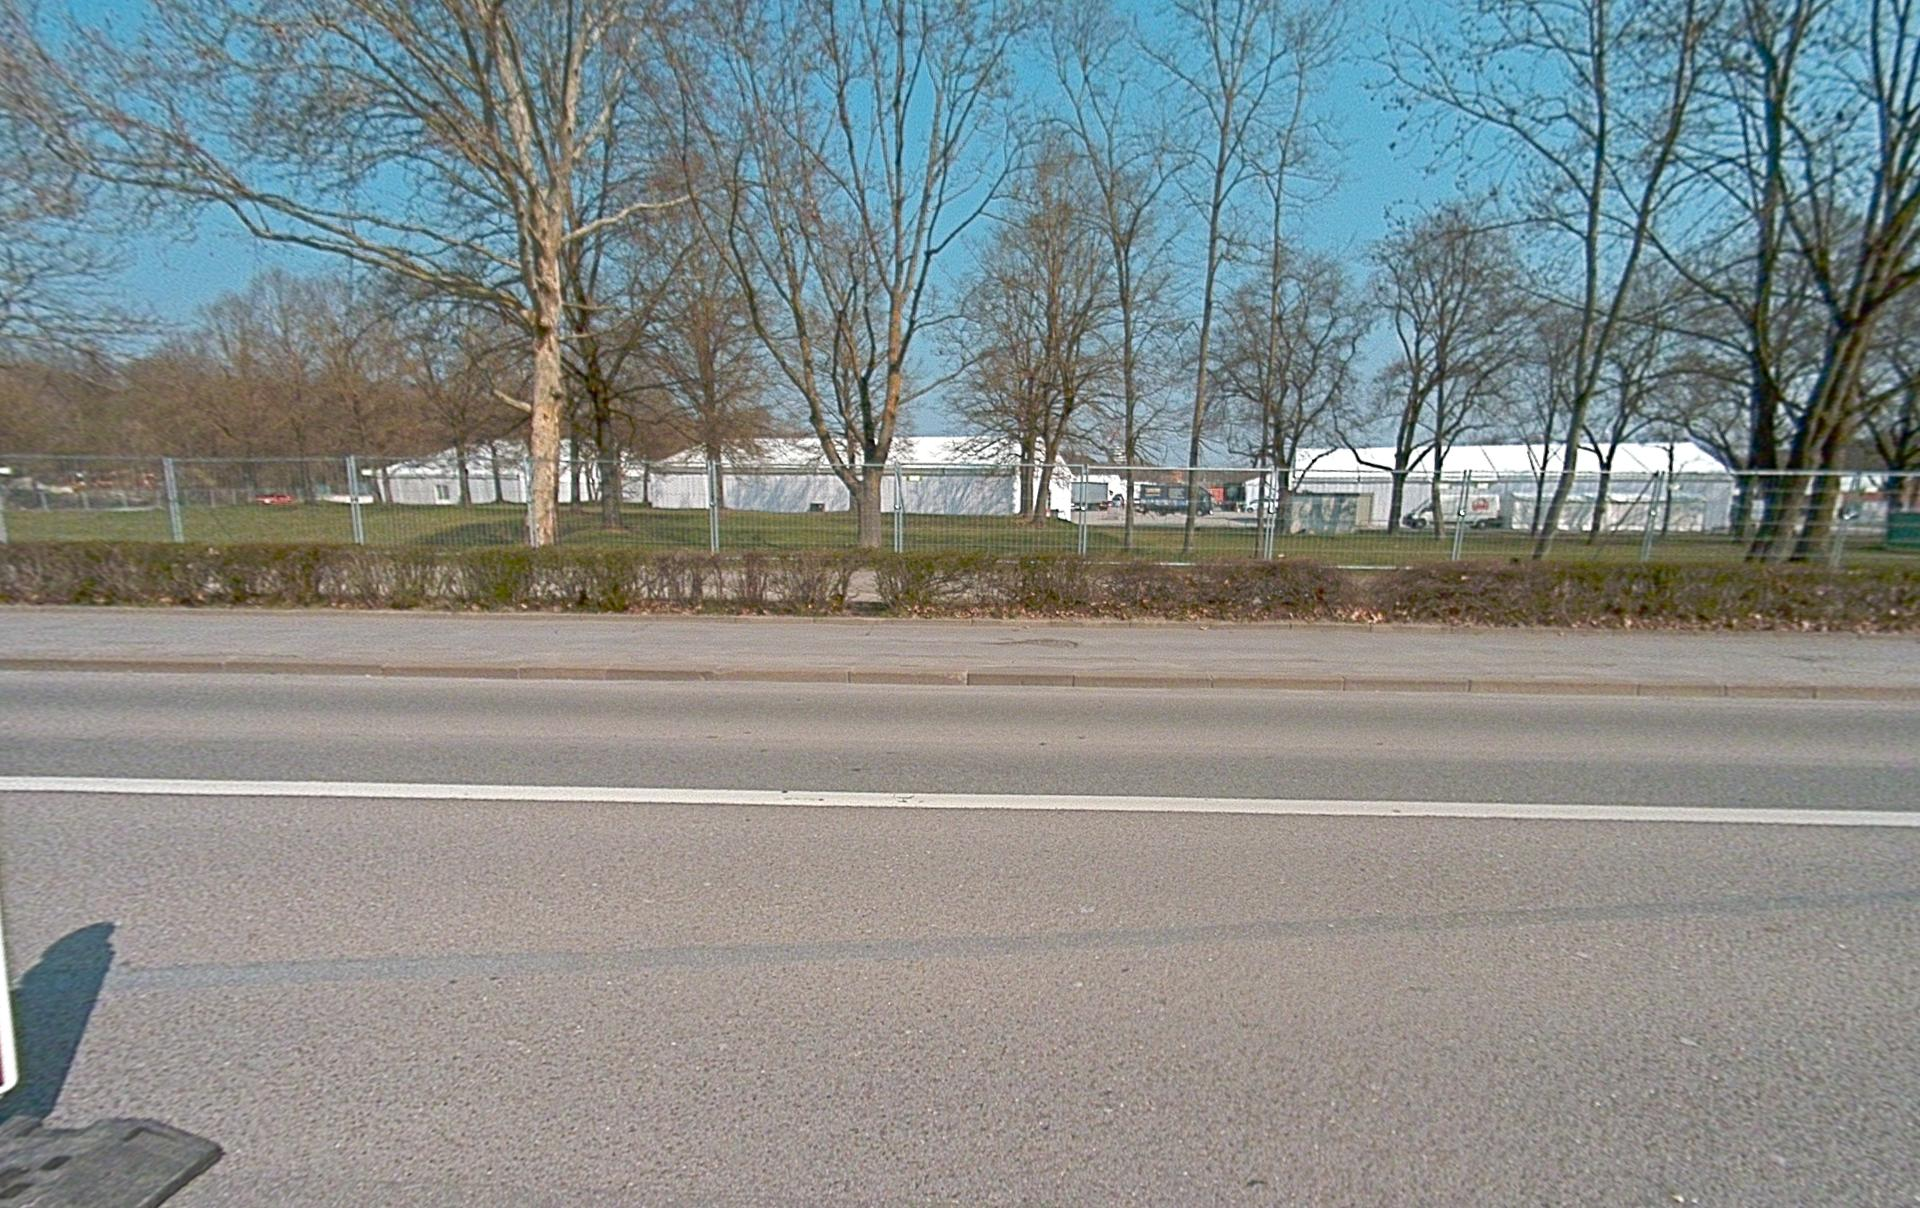car: (255, 491, 296, 508)
